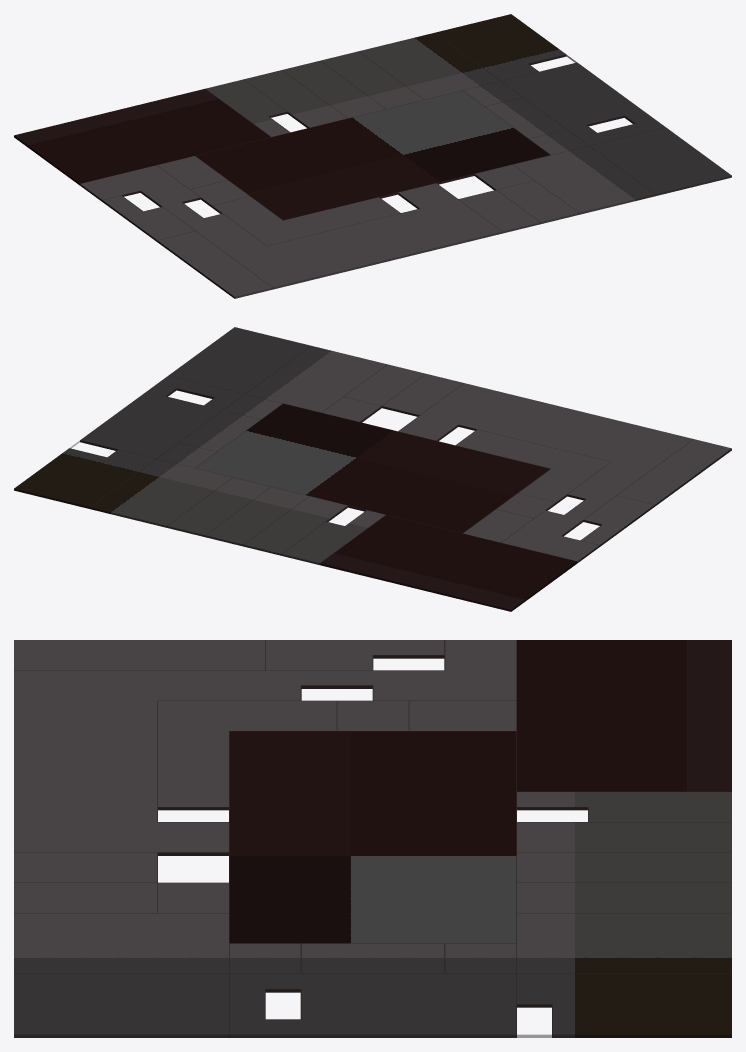
Rendered from Lobby Floor.fbx.
3 renders of one model, top to bottom at view 1: azimuth 30°, elevation 25°; view 2: azimuth 150°, elevation 25°; view 3: azimuth 270°, elevation 25°, orthographic. The views are drawn at different scales.
Visible parts, largest first — view 1: Lobby Floor; view 2: Lobby Floor; view 3: Lobby Floor.
Boxes of the visible parts, x1,y1,x2,y2 form: Lobby Floor: (14, 14, 731, 298); Lobby Floor: (14, 327, 731, 611); Lobby Floor: (14, 640, 731, 1037).
Bounding box in the file's own units: 65.04 × 50.01 × 0.25.
